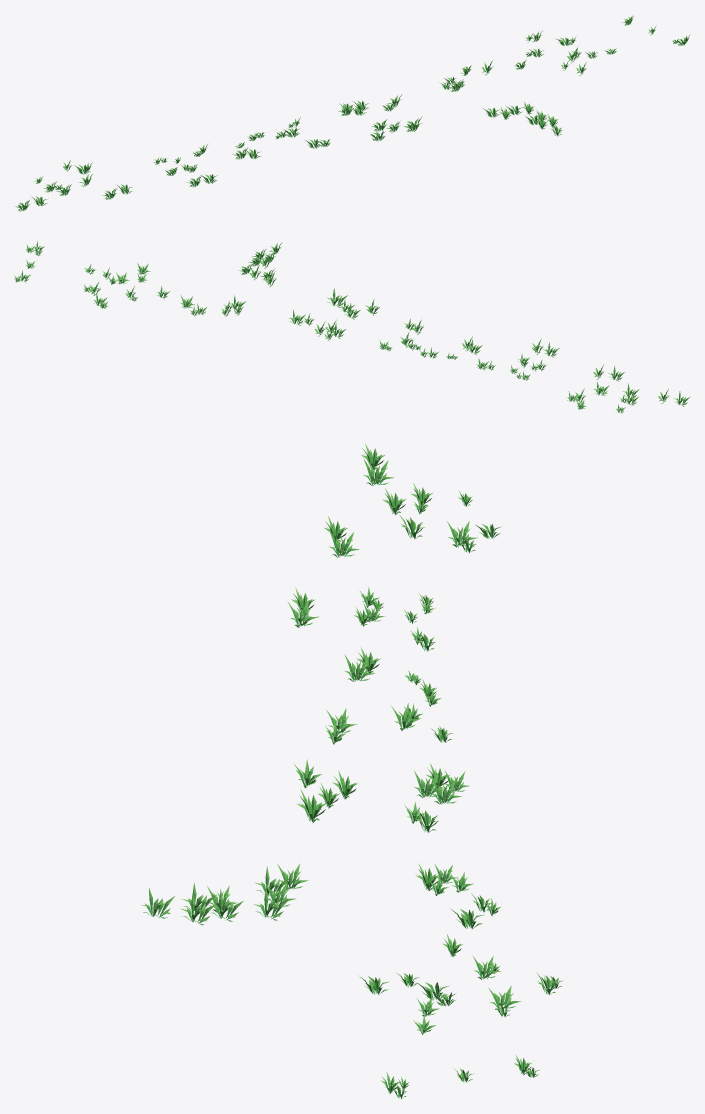
Rendered from Area_09_55.fbx.
3 renders of one model, top to bottom at view 1: azimuth 30°, elevation 25°; view 2: azimuth 150°, elevation 25°; view 3: azimuth 270°, elevation 25°, orthographic. The views are drawn at different scales.
Parts seen in each view (by area): view 1: Area_09_55; view 2: Area_09_55; view 3: Area_09_55.
Boxes of the visible parts, x1,y1,x2,y2 form: Area_09_55: [15, 15, 690, 211]; Area_09_55: [14, 241, 689, 413]; Area_09_55: [142, 443, 563, 1098].
Bounding box in the file's own units: 5036 × 115 × 1410.
